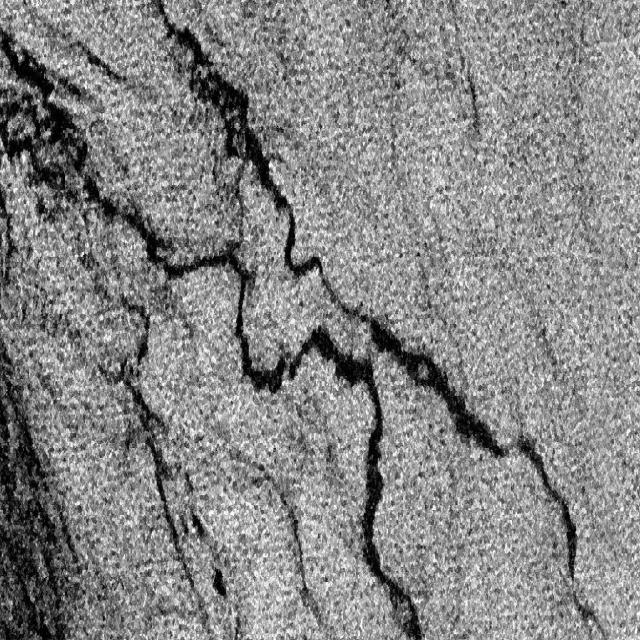look-alike: (2, 335, 73, 639)
oil-spill: (2, 15, 326, 291), (227, 303, 427, 632), (94, 322, 222, 612), (363, 287, 550, 477), (534, 482, 607, 633)
